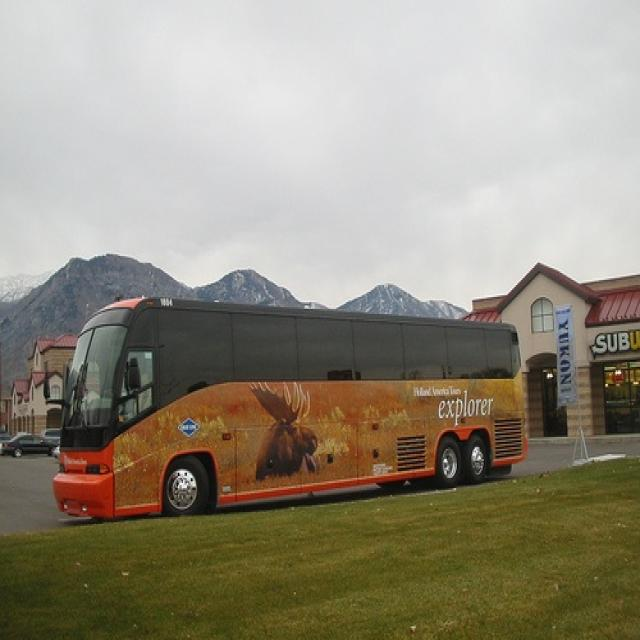bus: (56, 292, 530, 519)
car: (1, 432, 56, 457)
